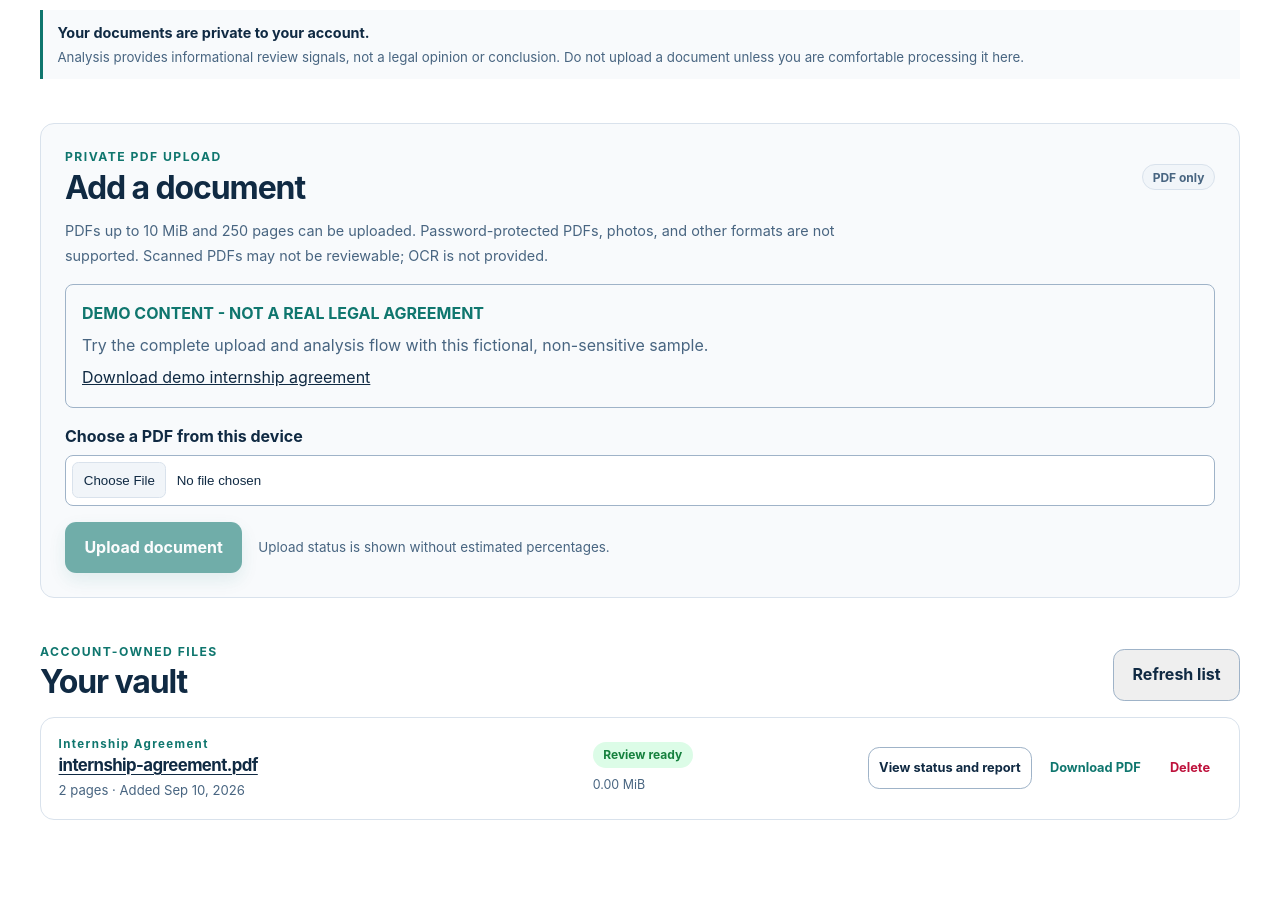
Test case: private document vault and review pages › keeps the vault entry and reports a safe message when deletion fails
The image size is (1280, 900).
(page scrolled)
Click the button "Delete" at [1190, 768], box [1158,747,1221,789]
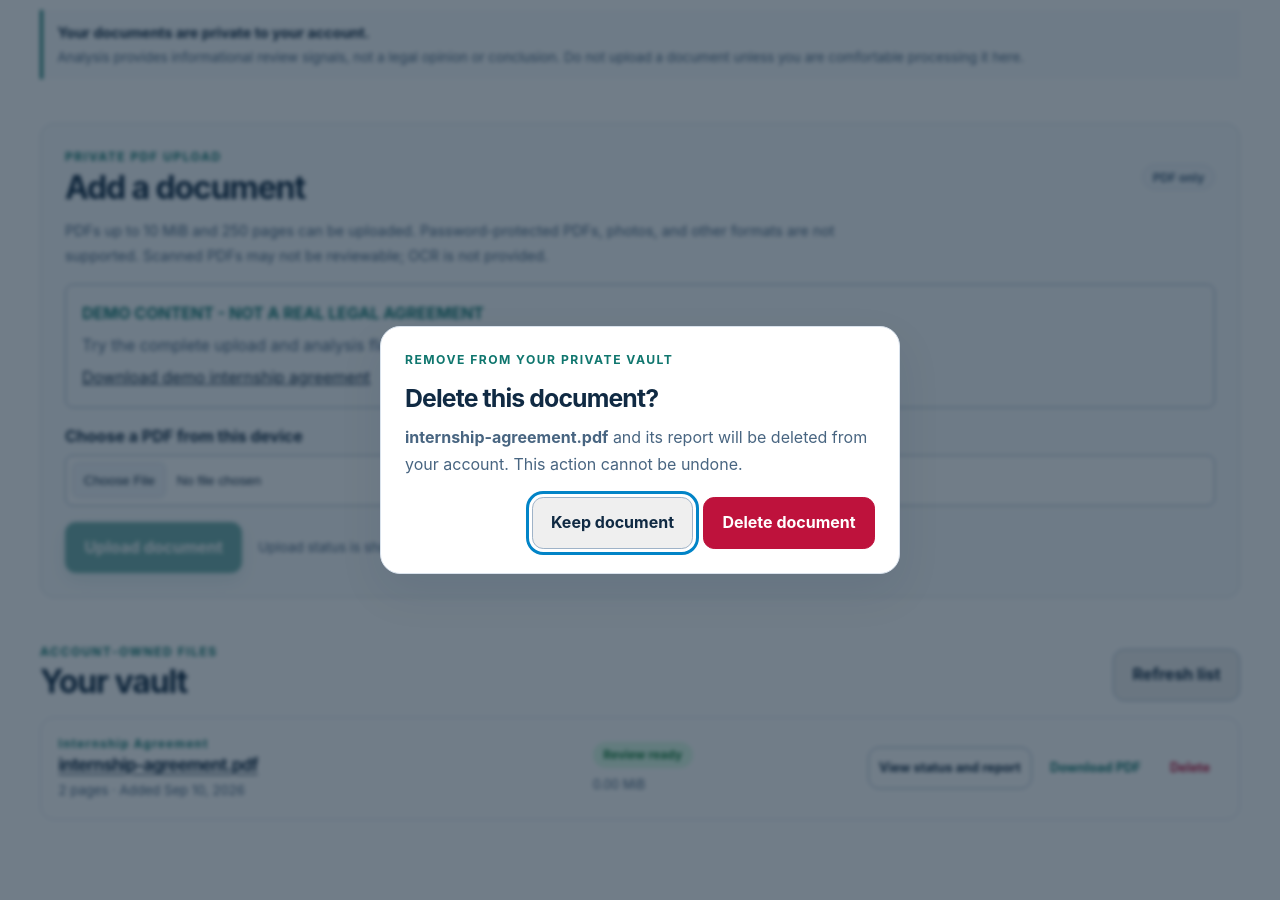
Click the button "Delete document" at [789, 523], box [703,497,875,549]
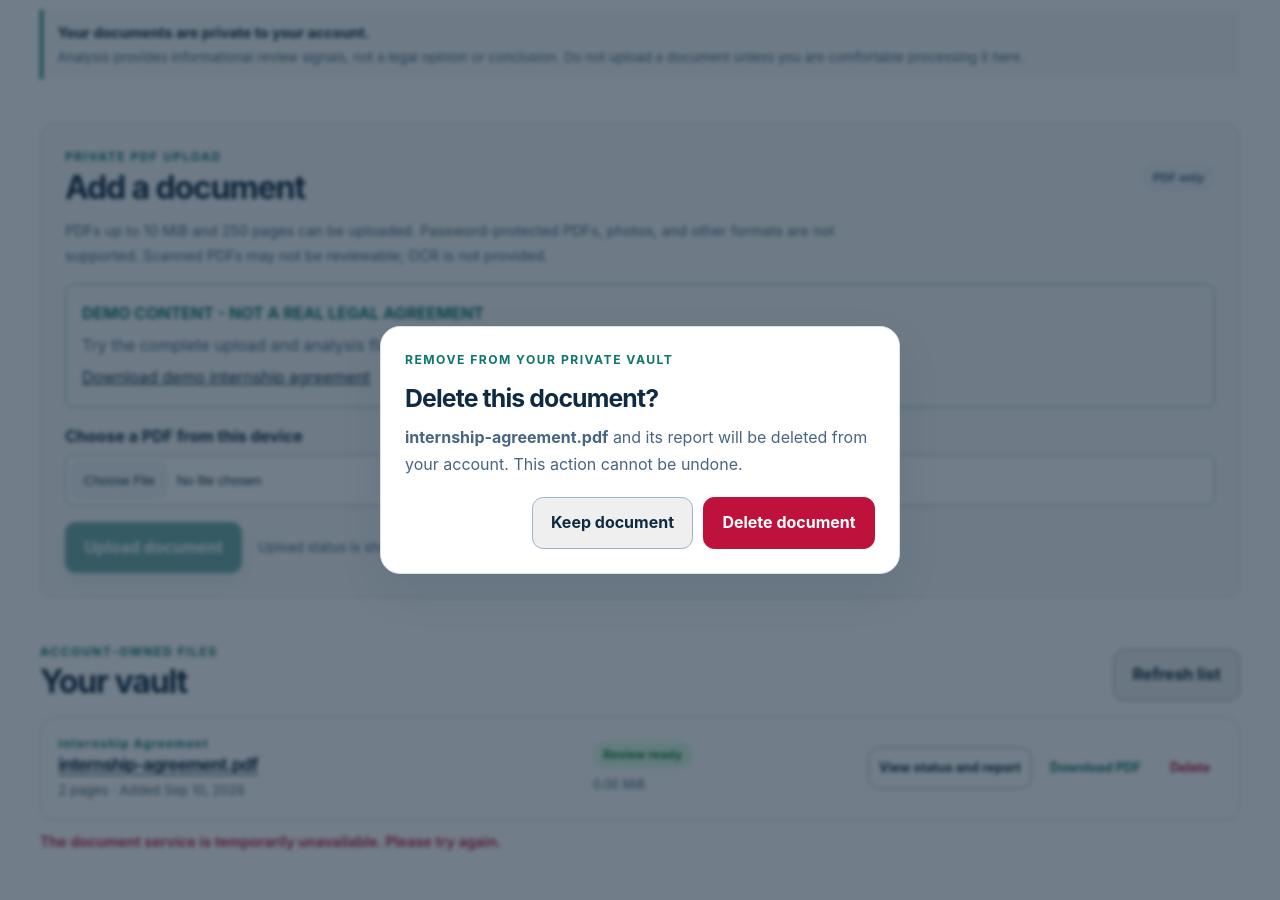
Expected: the link "internship-agreement.pdf" is shown, [59,755,258,775]
Expected: the message shows "document service is temporarily unavailable", [40,833,501,850]
